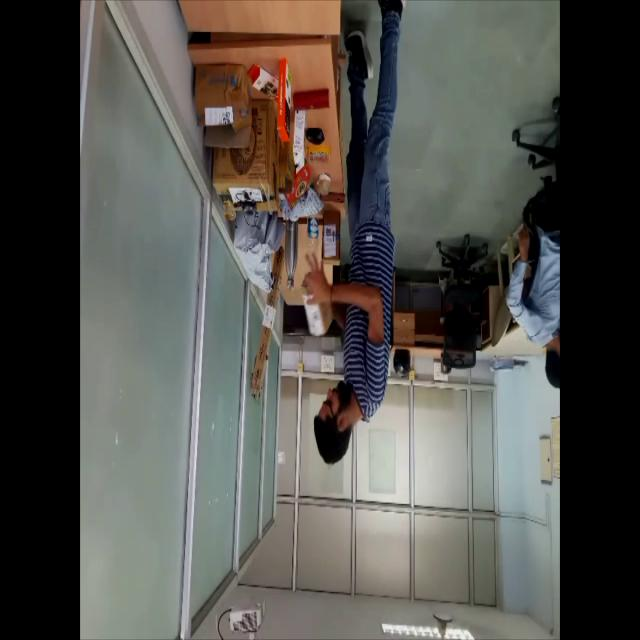normal: (299, 0, 402, 493)
